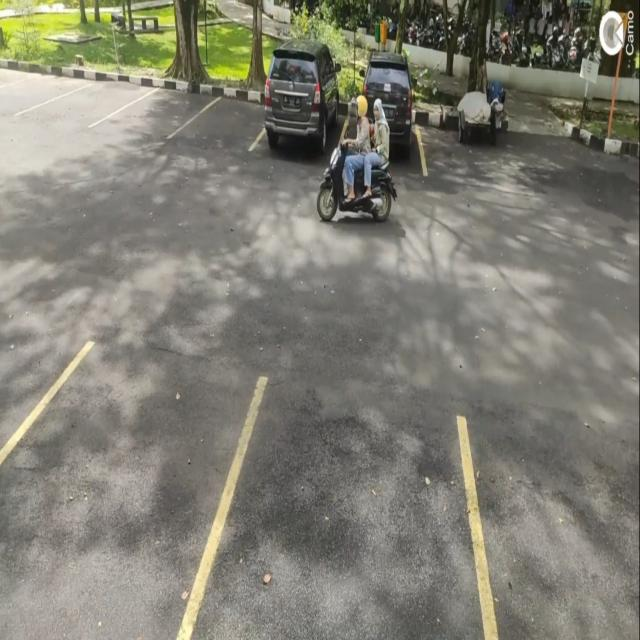empty: (219, 381, 483, 640), (2, 344, 221, 640), (191, 73, 260, 154), (120, 76, 200, 141)
occupied: (258, 48, 343, 160)
